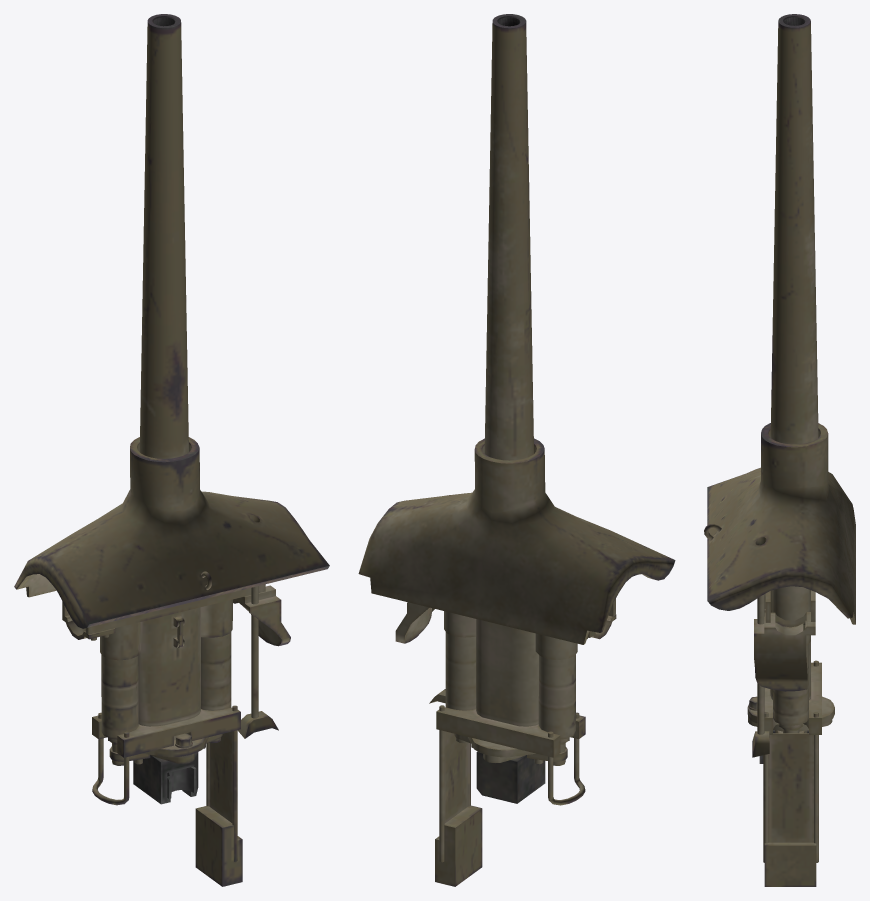
The model's file is Gun_05.glb.
3 views of the same model, side by side, from view 1: azimuth 30°, elevation 25°; view 2: azimuth 150°, elevation 25°; view 3: azimuth 270°, elevation 25° (orthographic). The views are drawn at different scales.
Parts seen in each view (by area): view 1: set_0_group_0; view 2: set_0_group_0; view 3: set_0_group_0.
Part boxes in pixels (box(x1,y1,x2,y2)): set_0_group_0: box(14, 14, 329, 886); set_0_group_0: box(358, 14, 675, 886); set_0_group_0: box(704, 14, 855, 886).
Bounding box in the file's own units: 0.945 × 3.24 × 0.5343.
Materials: 1 (1 with a texture image).
